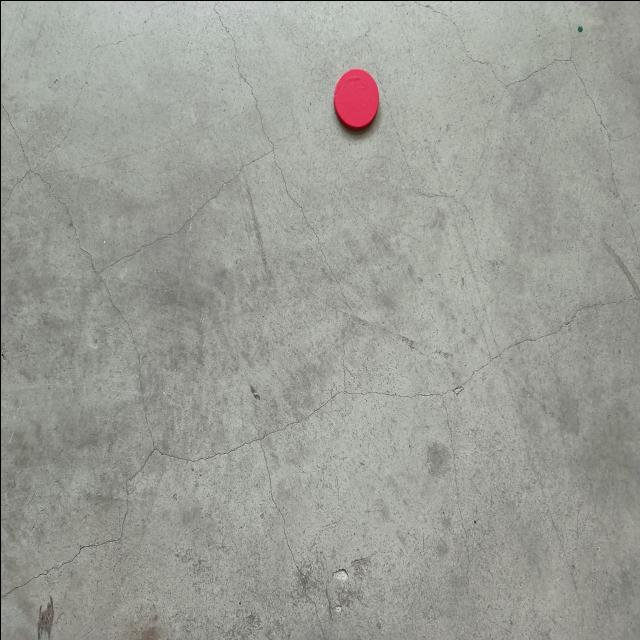chip: (330, 64, 382, 138)
